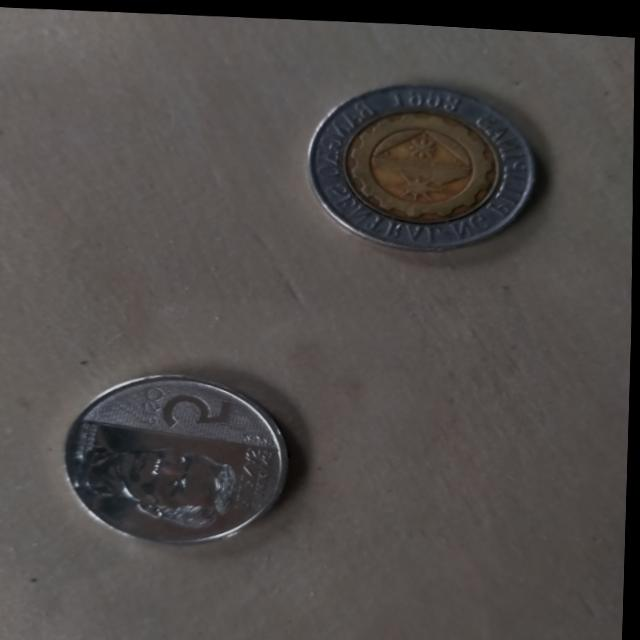10_Old_Back: (310, 68, 543, 245)
5_New_Front: (138, 372, 240, 435)
